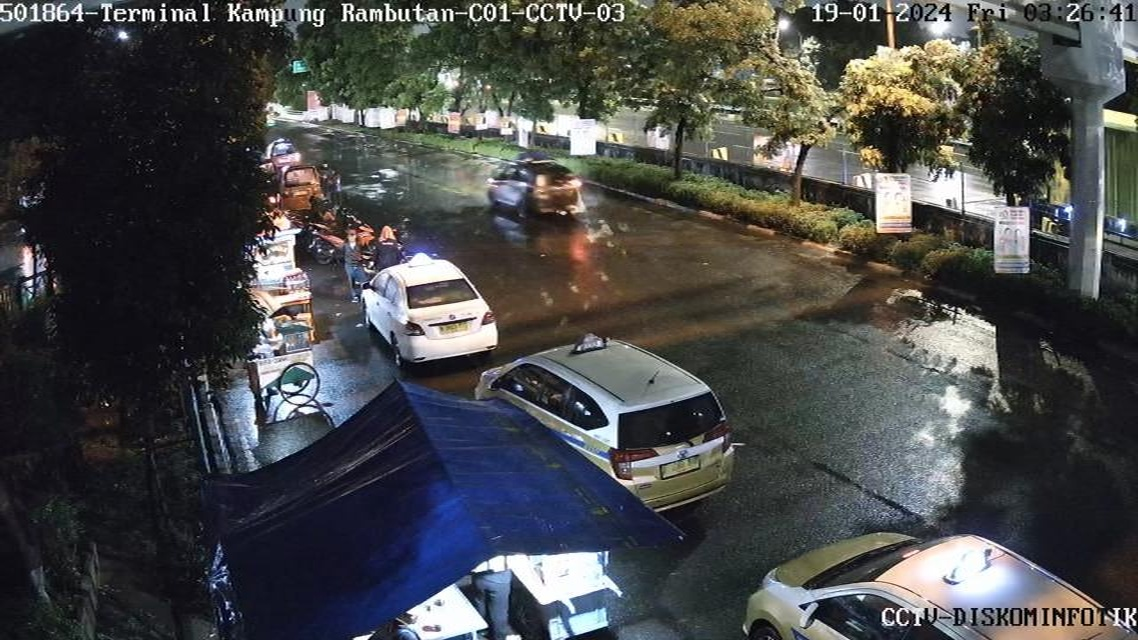Gerobak: (490, 550, 626, 640), (240, 292, 334, 416)
